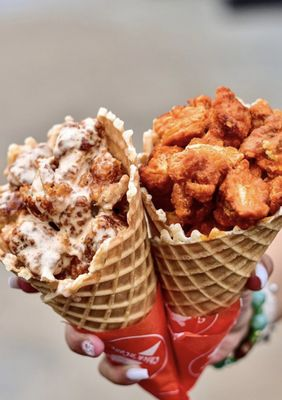sushi: (138, 86, 281, 242)
